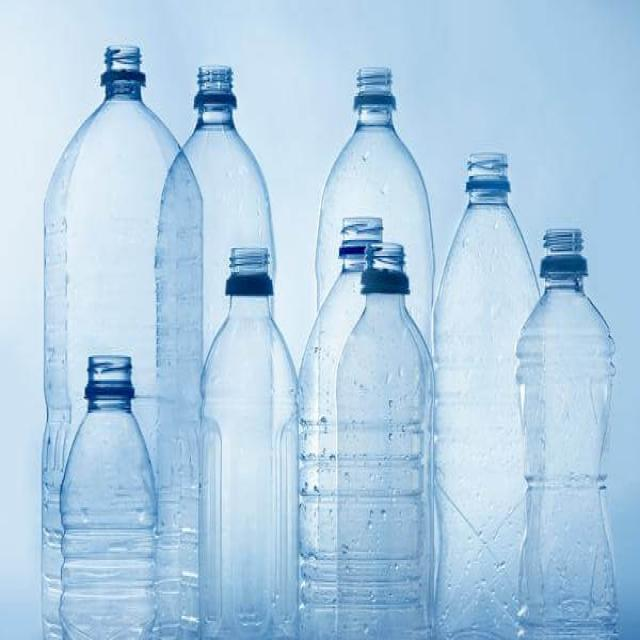mobile_phone: (38, 14, 202, 632), (420, 127, 560, 640), (323, 65, 429, 640), (310, 197, 436, 631), (517, 212, 625, 632), (64, 356, 176, 640)
